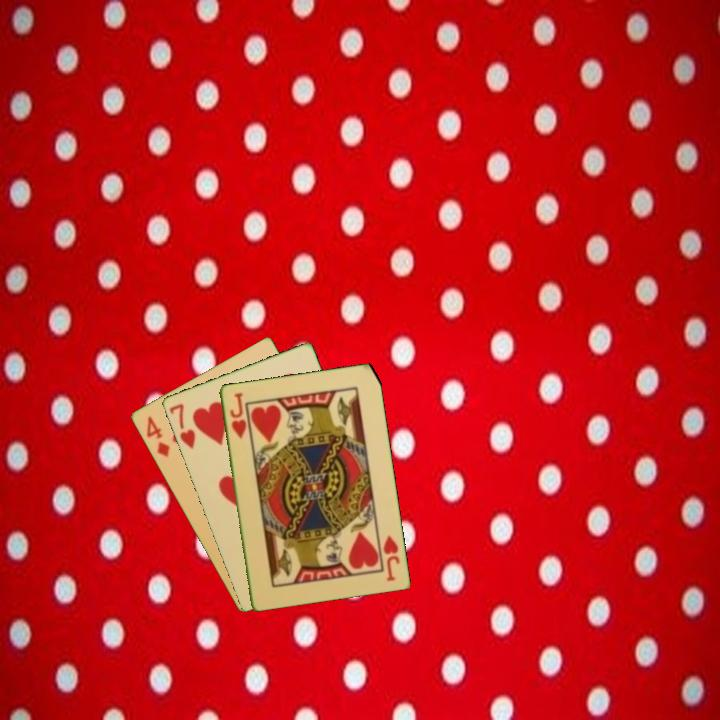4d: (142, 412, 173, 460)
7h: (165, 400, 198, 451)
Jh: (226, 389, 249, 441), (379, 532, 402, 584)
